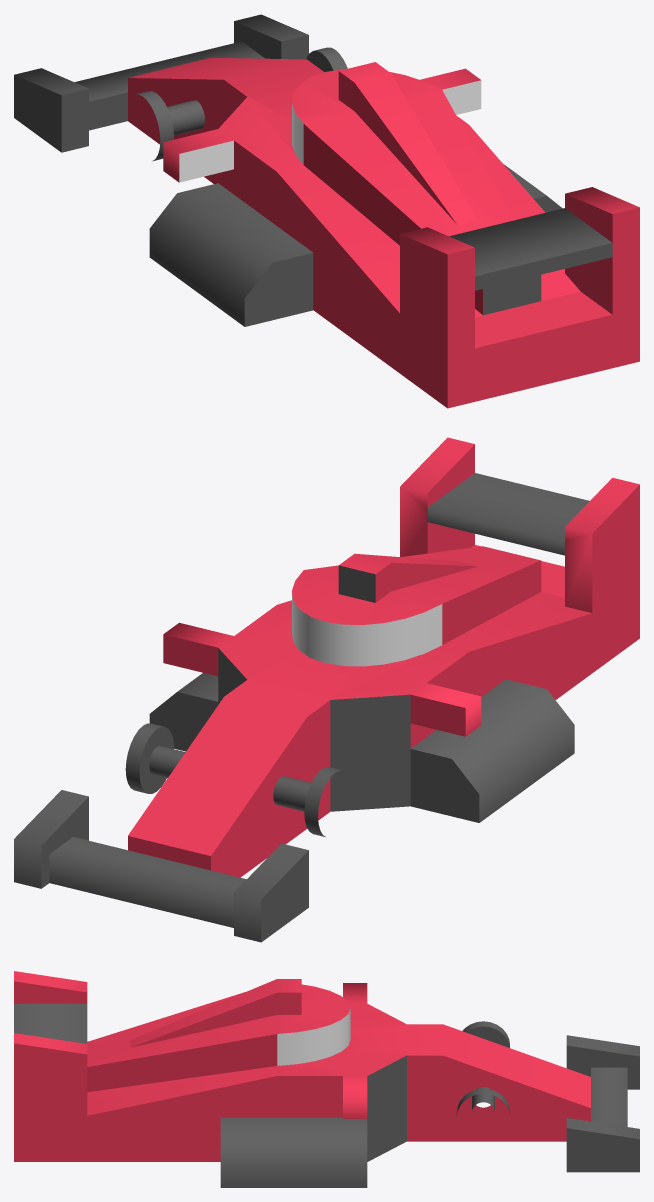
The model's file is race.glb.
3 renders of one model, top to bottom at view 1: azimuth 30°, elevation 25°; view 2: azimuth 150°, elevation 25°; view 3: azimuth 270°, elevation 25°, orthographic. The views are drawn at different scales.
Visible parts, largest first — view 1: body; view 2: body; view 3: body.
Part boxes in pixels (bbox=[...]): body: bbox=[14, 14, 639, 408]; body: bbox=[14, 437, 639, 942]; body: bbox=[14, 971, 639, 1187].
Size of the model in its own units: 1.2 by 0.6325 by 2.56.
